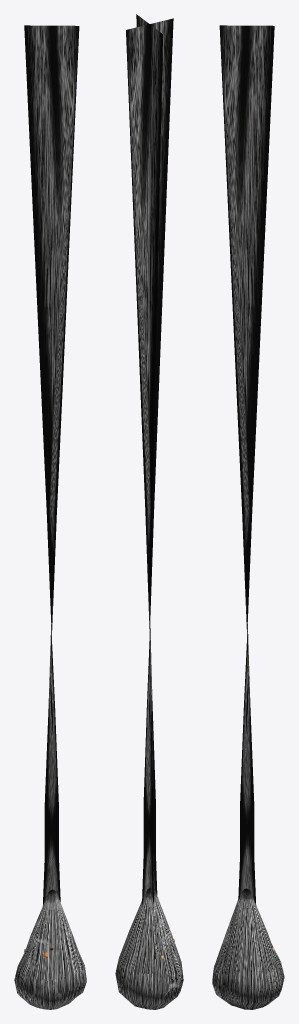
The model's file is INST_SB_DWARFCOCOON_FALL.fbx.
3 renders of one model, left to right at view 1: azimuth 90°, elevation 25°; view 2: azimuth 210°, elevation 25°; view 3: azimuth 270°, elevation 25°, orthographic.
Parts seen in each view (by area): view 1: INST_SB_DWARFCOCOON_FALL; view 2: INST_SB_DWARFCOCOON_FALL; view 3: INST_SB_DWARFCOCOON_FALL.
Part boxes in pixels (<box>): INST_SB_DWARFCOCOON_FALL: <box>14,25,86,1009</box>; INST_SB_DWARFCOCOON_FALL: <box>115,14,183,1009</box>; INST_SB_DWARFCOCOON_FALL: <box>212,25,284,1009</box>.
Size of the model in its own units: 8639 by 137464 by 9202.
5 materials, 5 textured.
